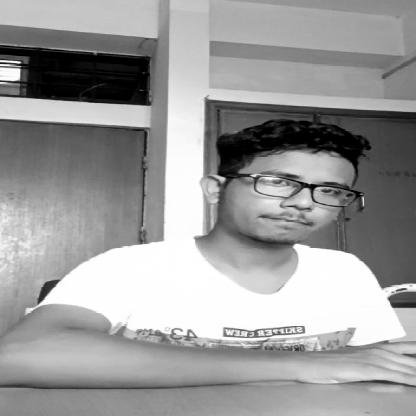Normal: (206, 134, 363, 256)
